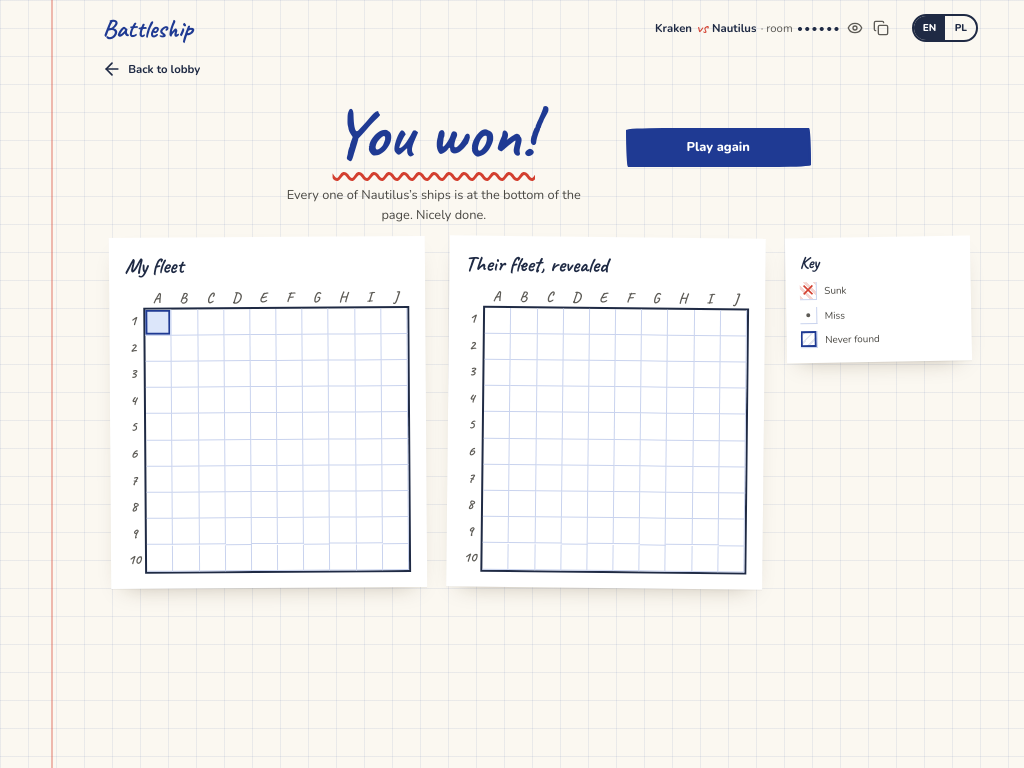
Scenario: Play again przechodzi w oczekiwanie
The image size is (1024, 768).
Click the button "Play again" at (718, 148), box [626,128,811,167]
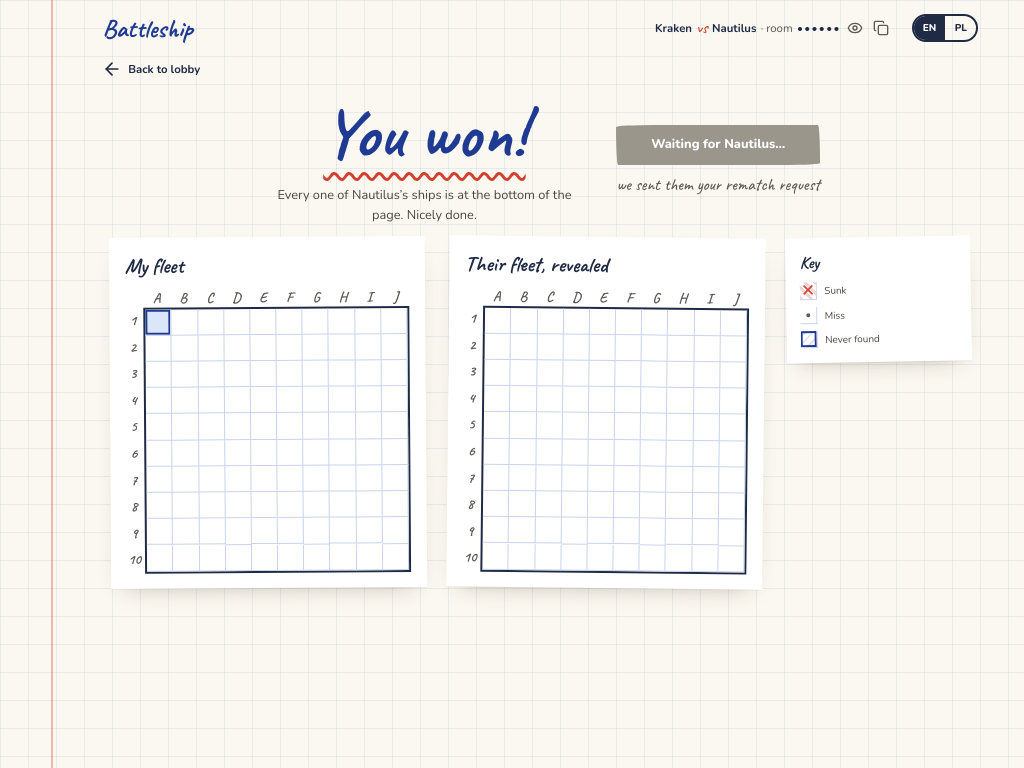
Expected: the button "Waiting for Nautilus…" is disabled, [616,125,820,165]
